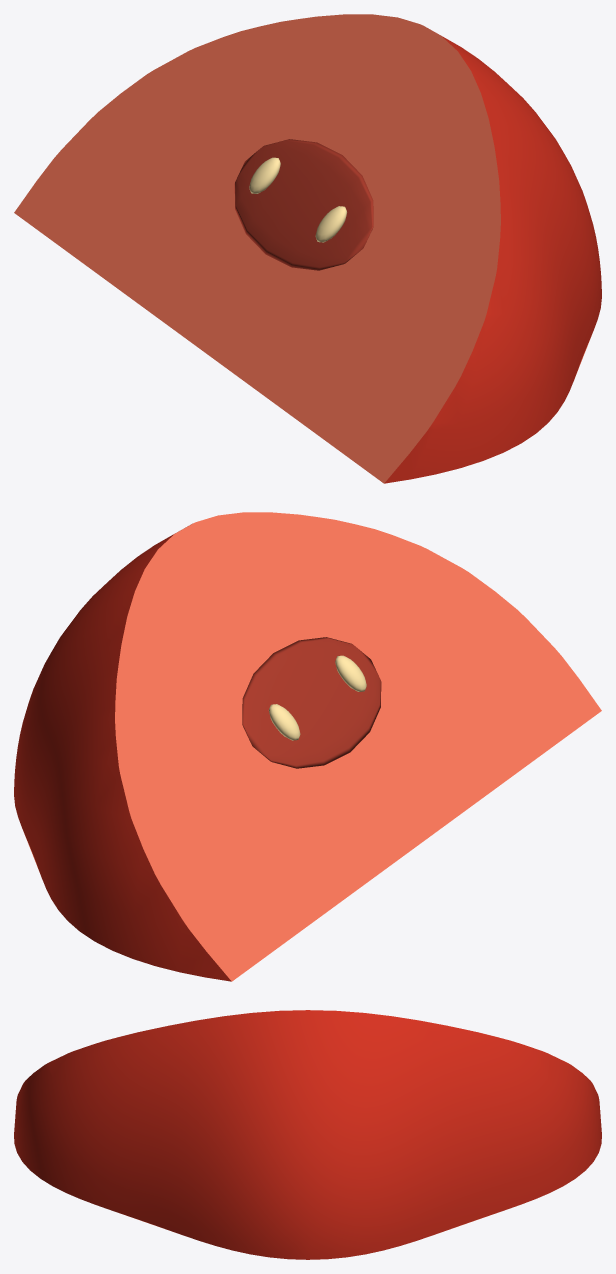
File: standard_chunk.glb
3 renders of one model, top to bottom at view 1: azimuth 30°, elevation 25°; view 2: azimuth 150°, elevation 25°; view 3: azimuth 270°, elevation 25°, orthographic. The views are drawn at different scales.
Parts seen in each view (by area): view 1: Prepared right half, Eighth seed chamber, Eighth seed.001, Eighth seed; view 2: Prepared right half, Eighth seed chamber, Eighth seed, Eighth seed.001; view 3: Prepared right half.
Part boxes in pixels (x1=…): Prepared right half: x1=14, y1=14, x2=601, y2=483; Eighth seed chamber: x1=234, y1=139, x2=373, y2=270; Eighth seed.001: x1=315, y1=206, x2=347, y2=242; Eighth seed: x1=249, y1=157, x2=280, y2=193; Prepared right half: x1=14, y1=512, x2=601, y2=981; Eighth seed chamber: x1=242, y1=637, x2=381, y2=768; Eighth seed: x1=268, y1=704, x2=300, y2=740; Eighth seed.001: x1=335, y1=655, x2=366, y2=691; Prepared right half: x1=14, y1=1010, x2=601, y2=1259.
Size of the model in its own units: 0.627 by 0.4005 by 1.08.
